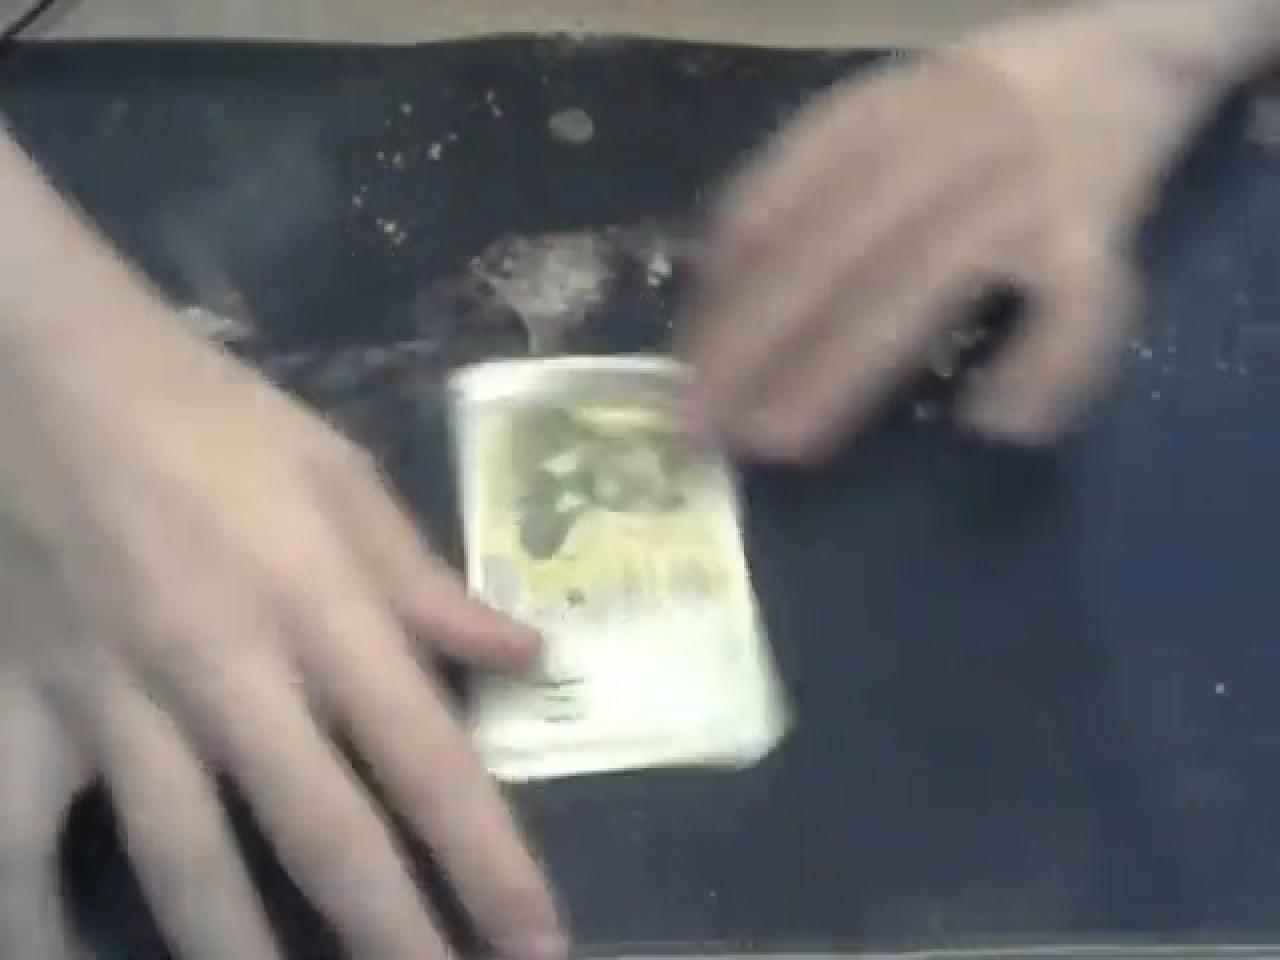10leva: (447, 355, 796, 787)
